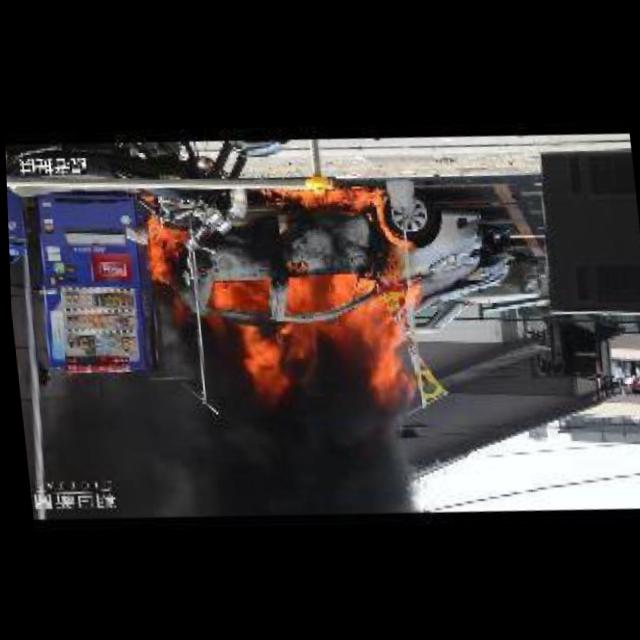Fire: (15, 322, 429, 534), (128, 158, 434, 407)
